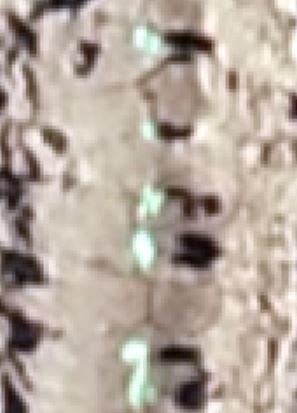cotton: (134, 231, 156, 268), (132, 370, 156, 403), (136, 25, 163, 53), (139, 188, 162, 215), (119, 341, 145, 364), (143, 123, 156, 139)
